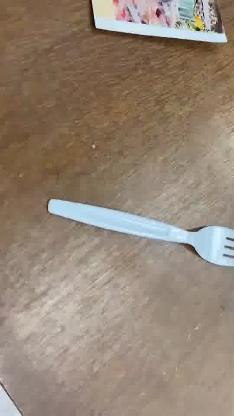Others: (46, 197, 234, 267)
